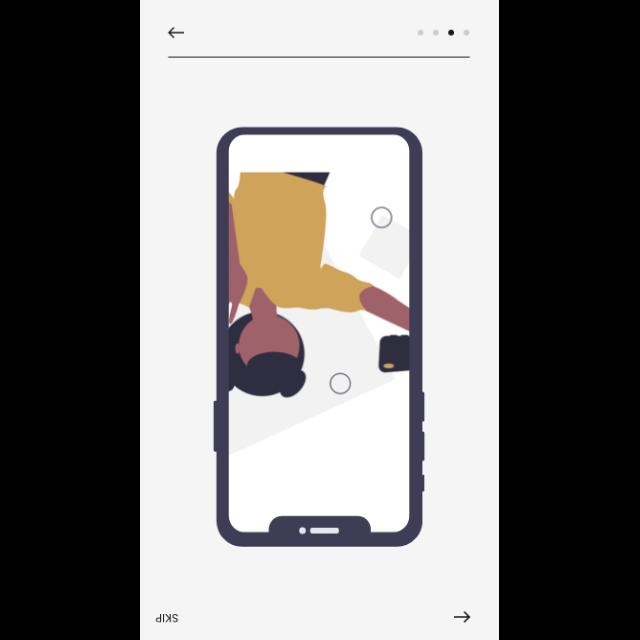icon: (454, 610, 472, 622), (168, 28, 185, 38)
image: (213, 126, 425, 546)
pageindicator: (416, 28, 469, 36)
text: (156, 612, 178, 622)
